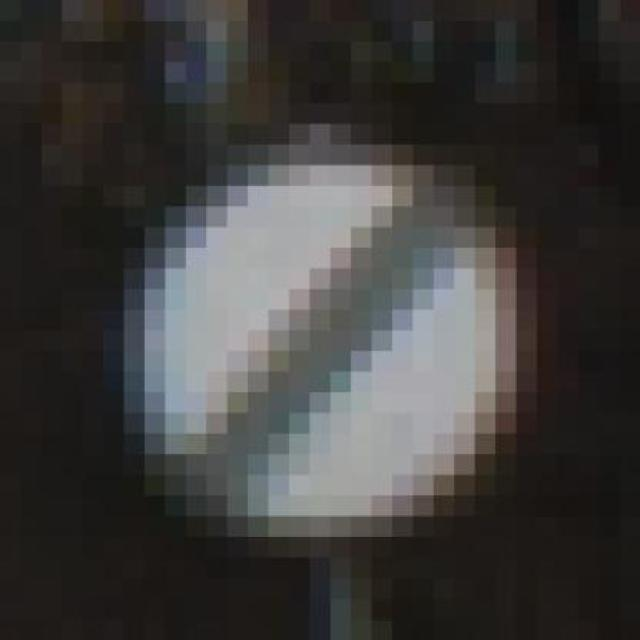End of all speed and passing limits: (103, 103, 537, 557)
